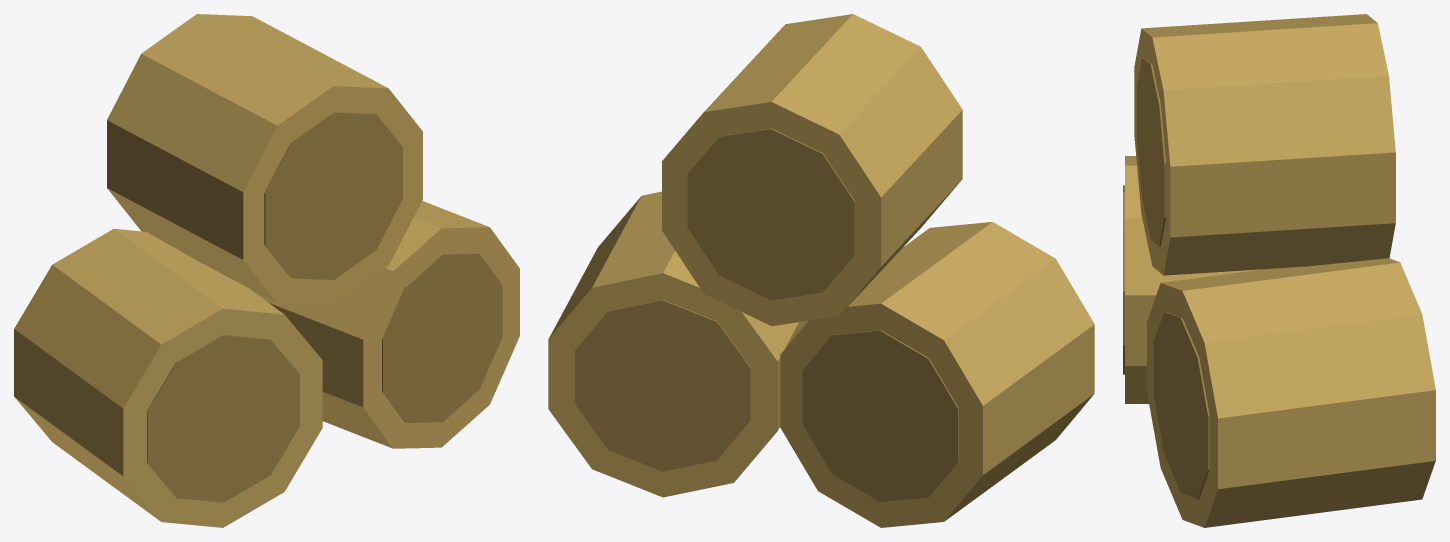
Rendered from fardo_feno_x3.glb.
3 views of the same model, side by side, from view 1: azimuth 30°, elevation 25°; view 2: azimuth 150°, elevation 25°; view 3: azimuth 270°, elevation 25° (orthographic). The views are drawn at different scales.
Parts seen in each view (by area): view 1: fardo_feno_x3; view 2: fardo_feno_x3; view 3: fardo_feno_x3.
Boxes of the visible parts, x1,y1,x2,y2 form: fardo_feno_x3: [14, 14, 519, 527]; fardo_feno_x3: [548, 14, 1094, 527]; fardo_feno_x3: [1123, 14, 1435, 527].
Bounding box in the file's own units: 3.03 × 2.64 × 1.78.
